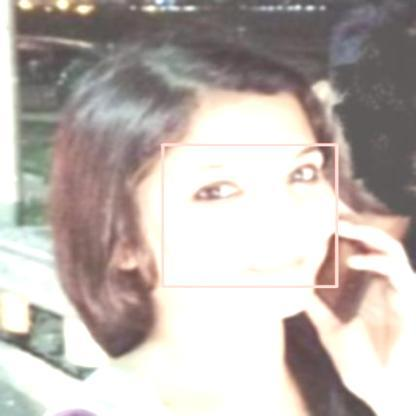without_mask: (163, 145, 337, 287)
